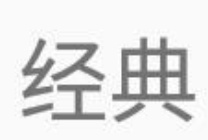TextView: (1, 1, 207, 139)
